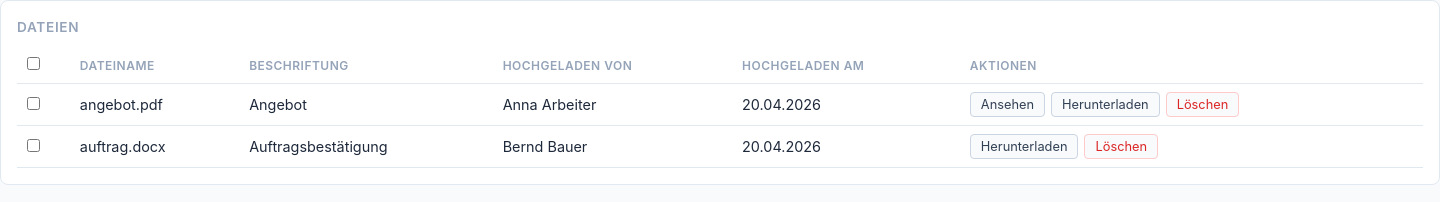
Test case: BinaryList — Schlüssel nicht verfügbar render (AC-244) › flips the row to "Schlüssel nicht verfügbar" when the SW signals envelope-unwrap failure
The image size is (1440, 202).
Click the button with test id "attachment-download" in the row of "angebot.pdf" at (1105, 105), box [1051, 92, 1160, 117]
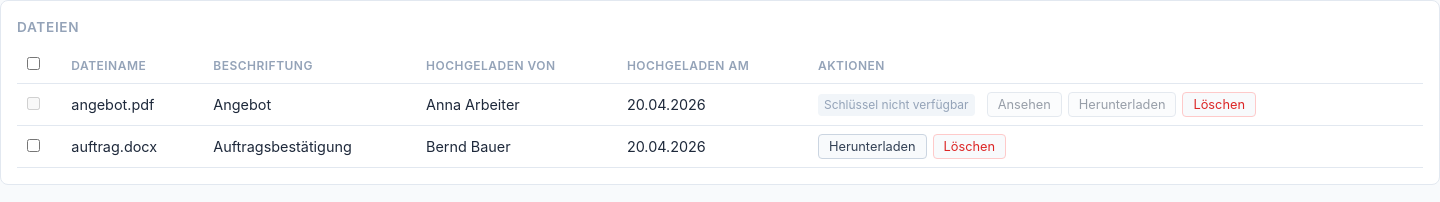
Check: the text "Schlüssel nicht verfügbar" is shown, box [818, 94, 975, 116]
Check: the button with test id "attachment-download" in the row of "Schlüssel nicht verfügbar" is disabled, box [1068, 92, 1176, 117]
Check: the checkbox named "angebot.pdf" is disabled, box [27, 97, 40, 110]
